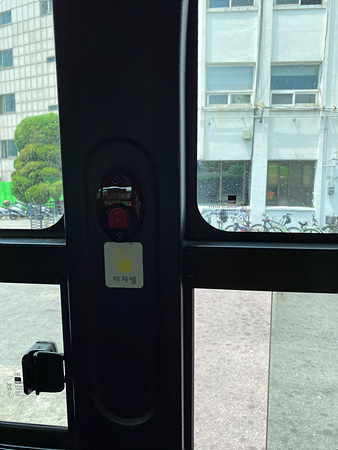bell: (94, 174, 143, 242)
